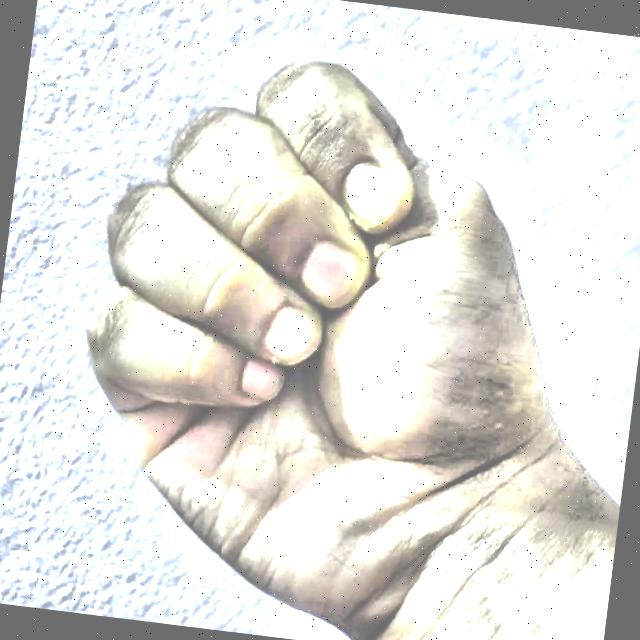To: (33, 22, 598, 640)
